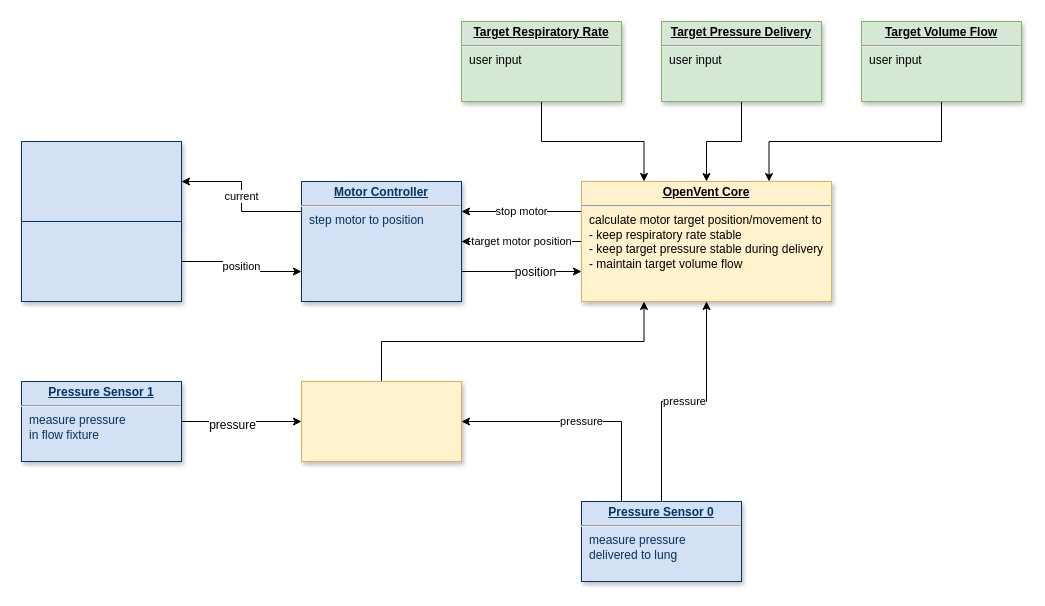
Some shapes in this 1045 by 606 pixel diagram are drawn without their labels. Each missing label, with the centre of its shape:
Flow Measurement differential pressure flow calculation: the point at 382,422
Motor controls compression through belt: the point at 102,182
Motor Encoder magnet sensor output: the point at 102,262
